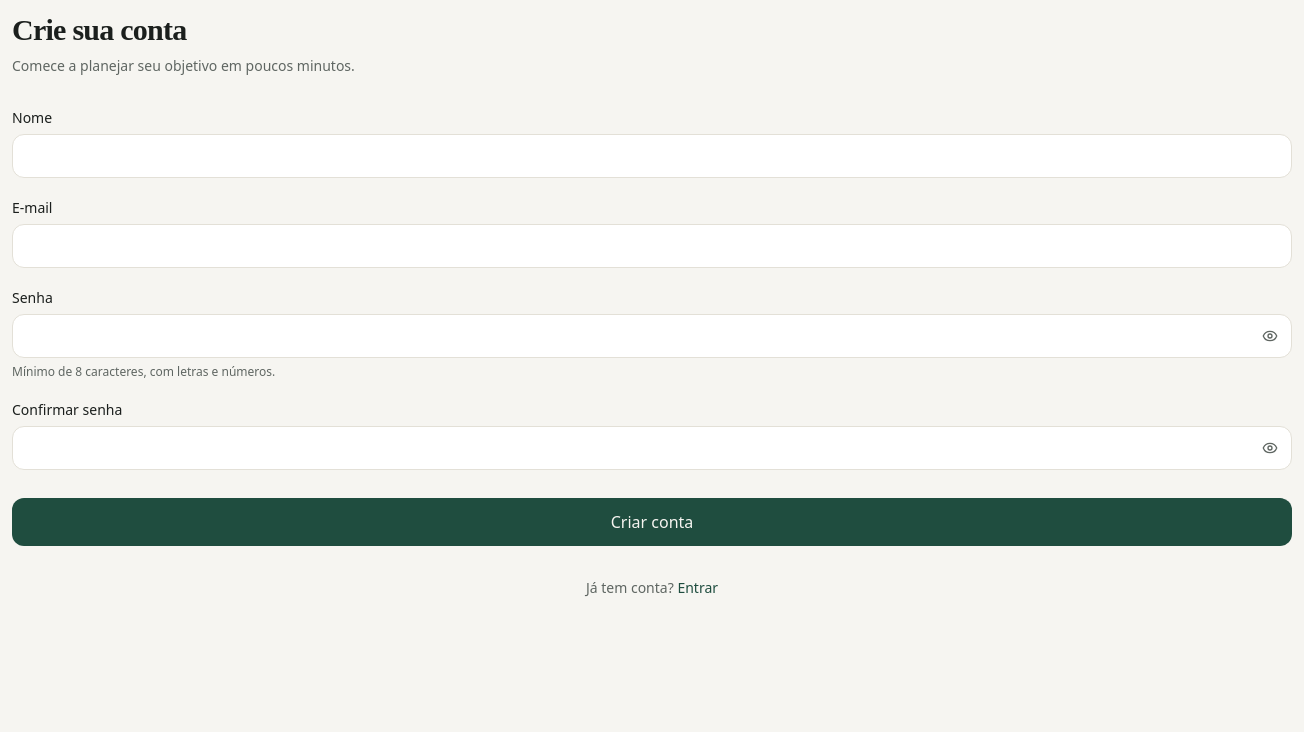
Scenario: RegisterPage › valida os campos antes de enviar
Click the button "Criar conta" at (652, 522), box [12, 498, 1292, 546]
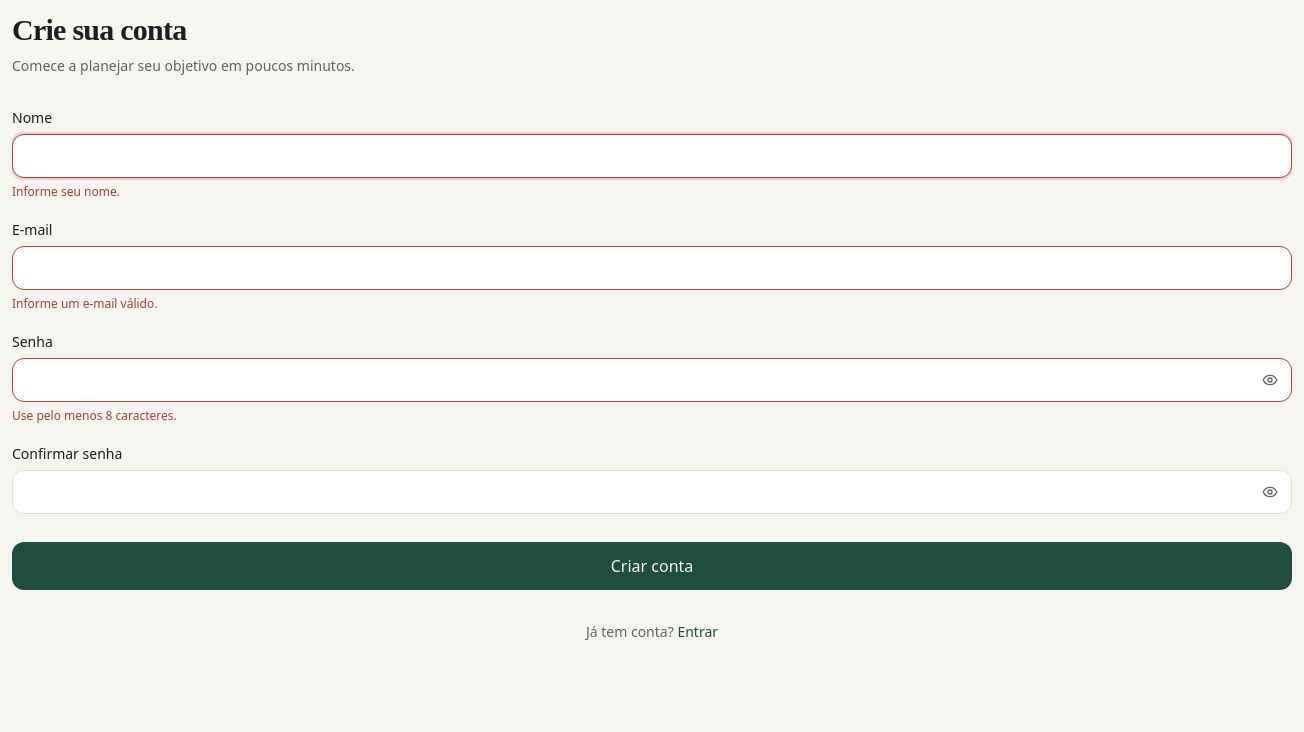
Check: the text "Informe seu nome." is shown, box [12, 183, 120, 200]
Check: the text "Informe um e-mail válido." is shown, box [12, 295, 158, 312]
